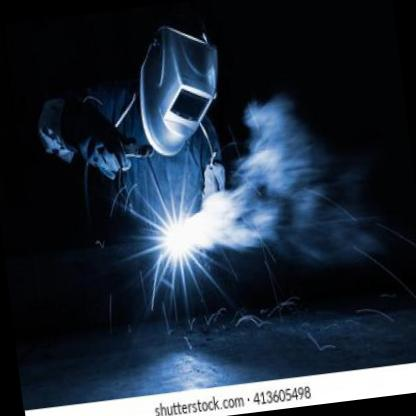Gloves: (57, 90, 140, 186)
